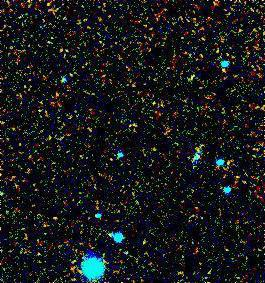star: (98, 144, 128, 174)
